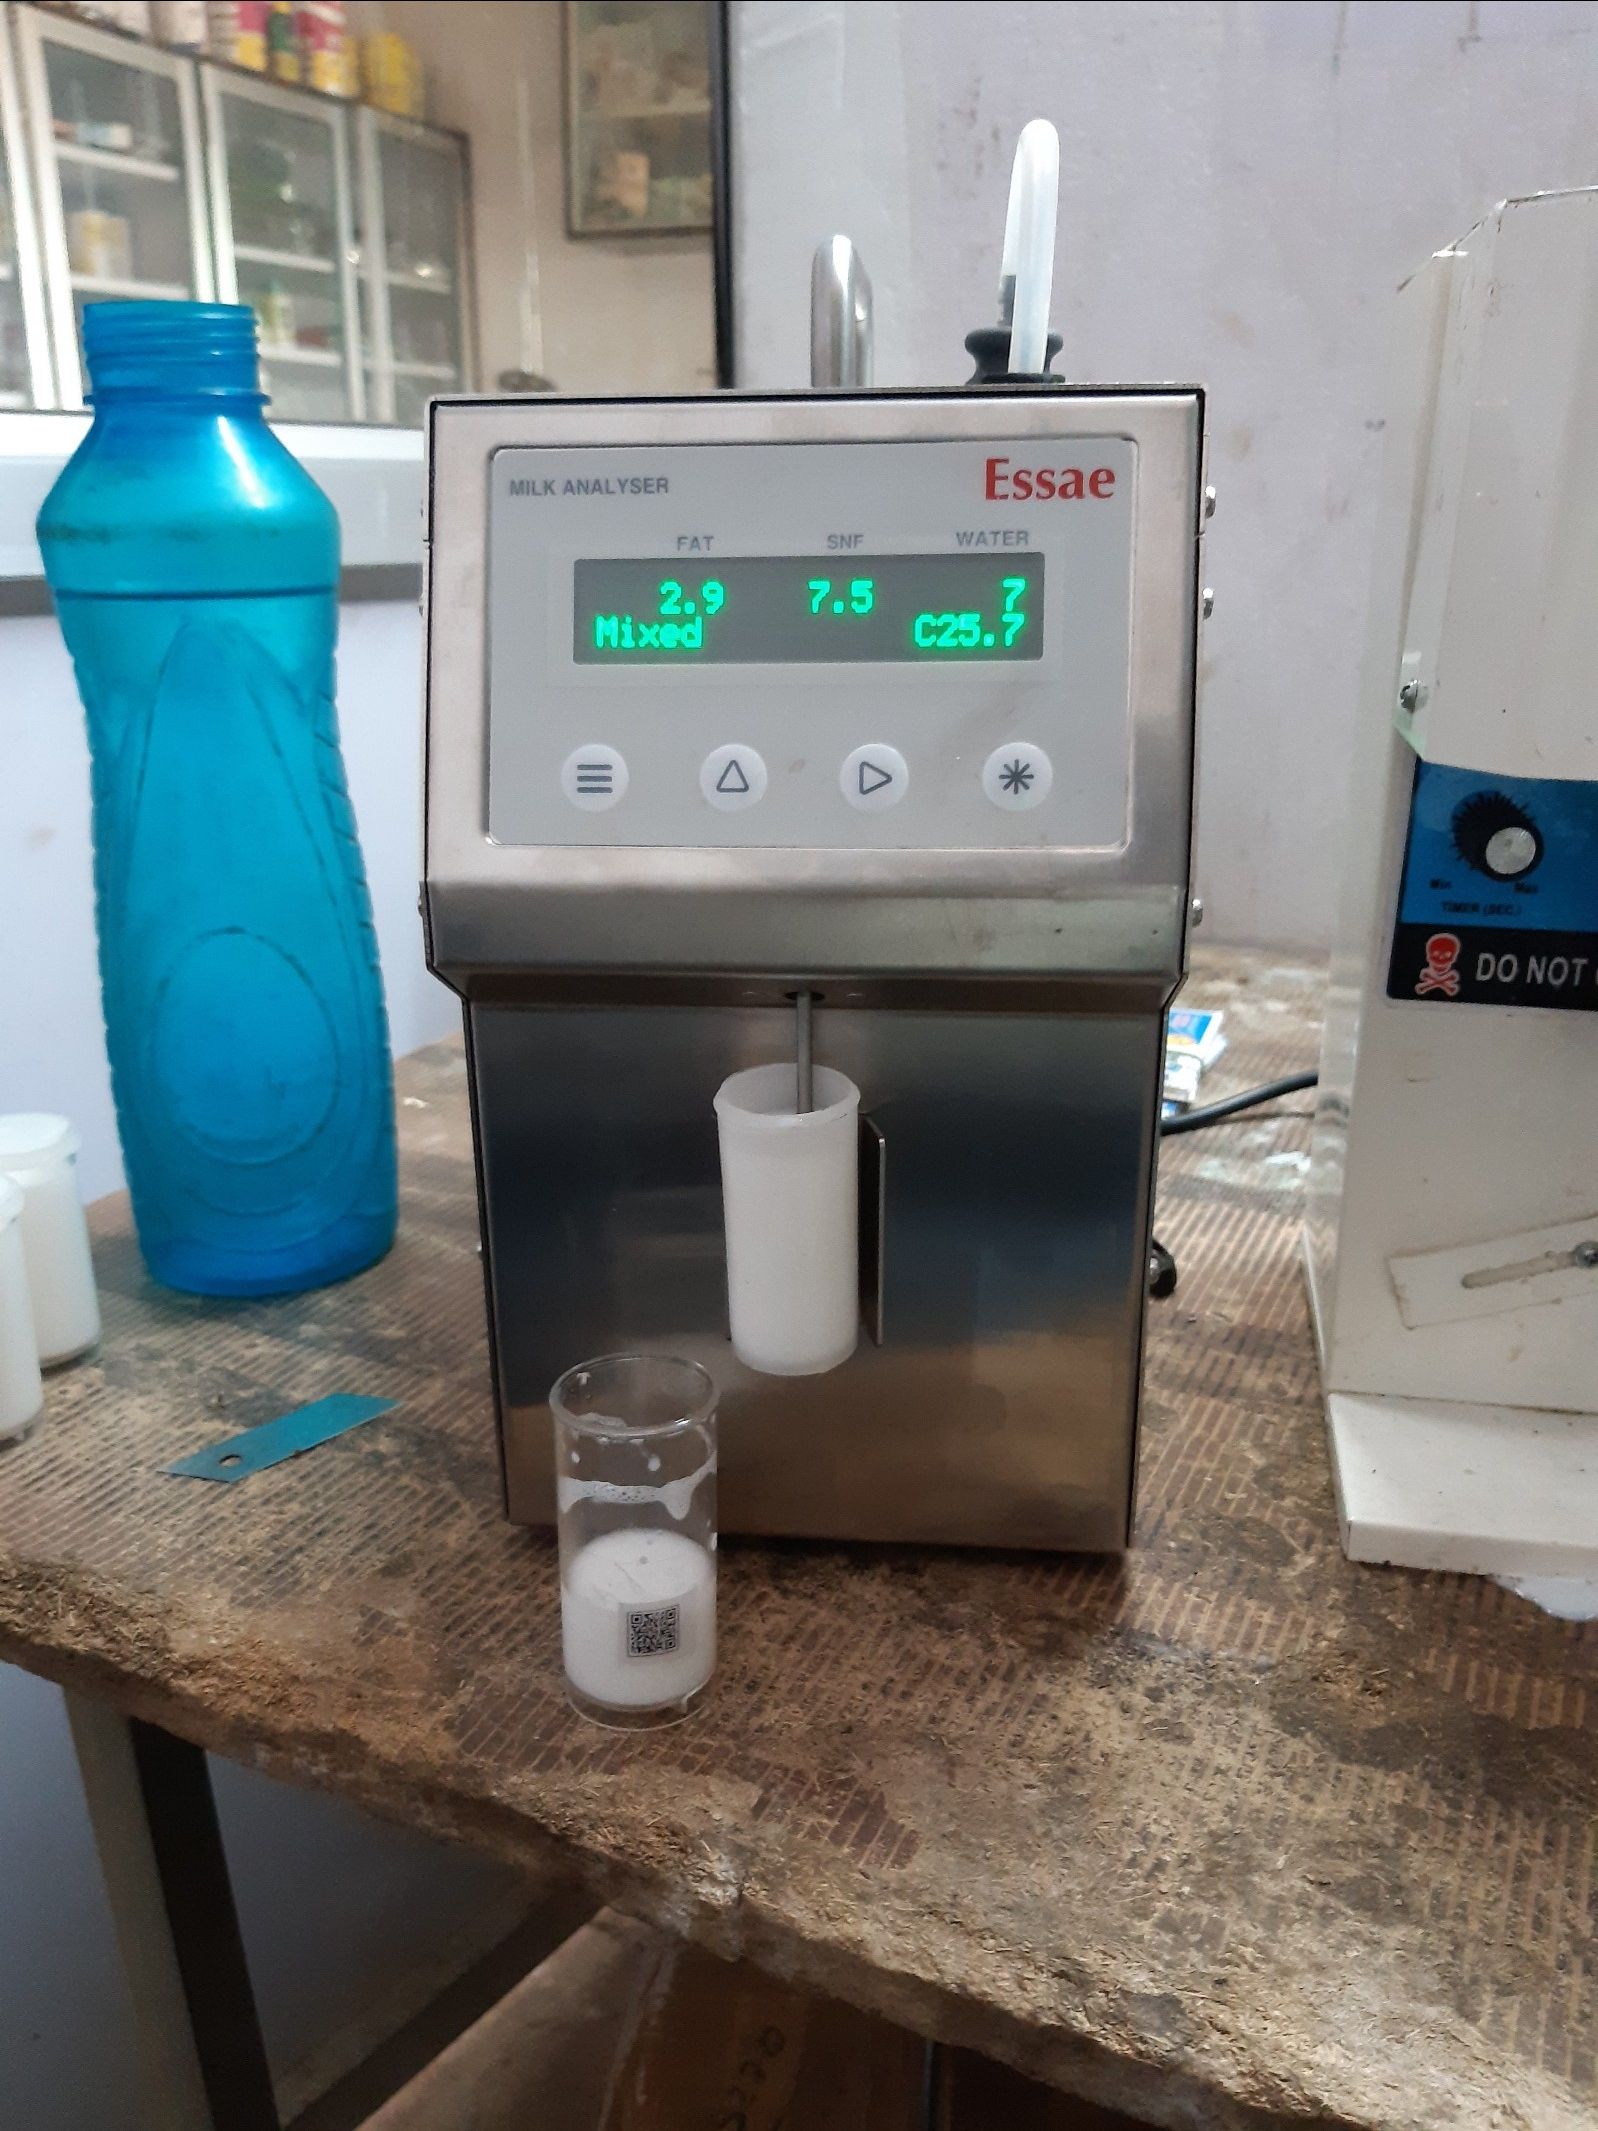lcd: (556, 555, 1056, 678)
qr: (623, 1601, 690, 1665)
